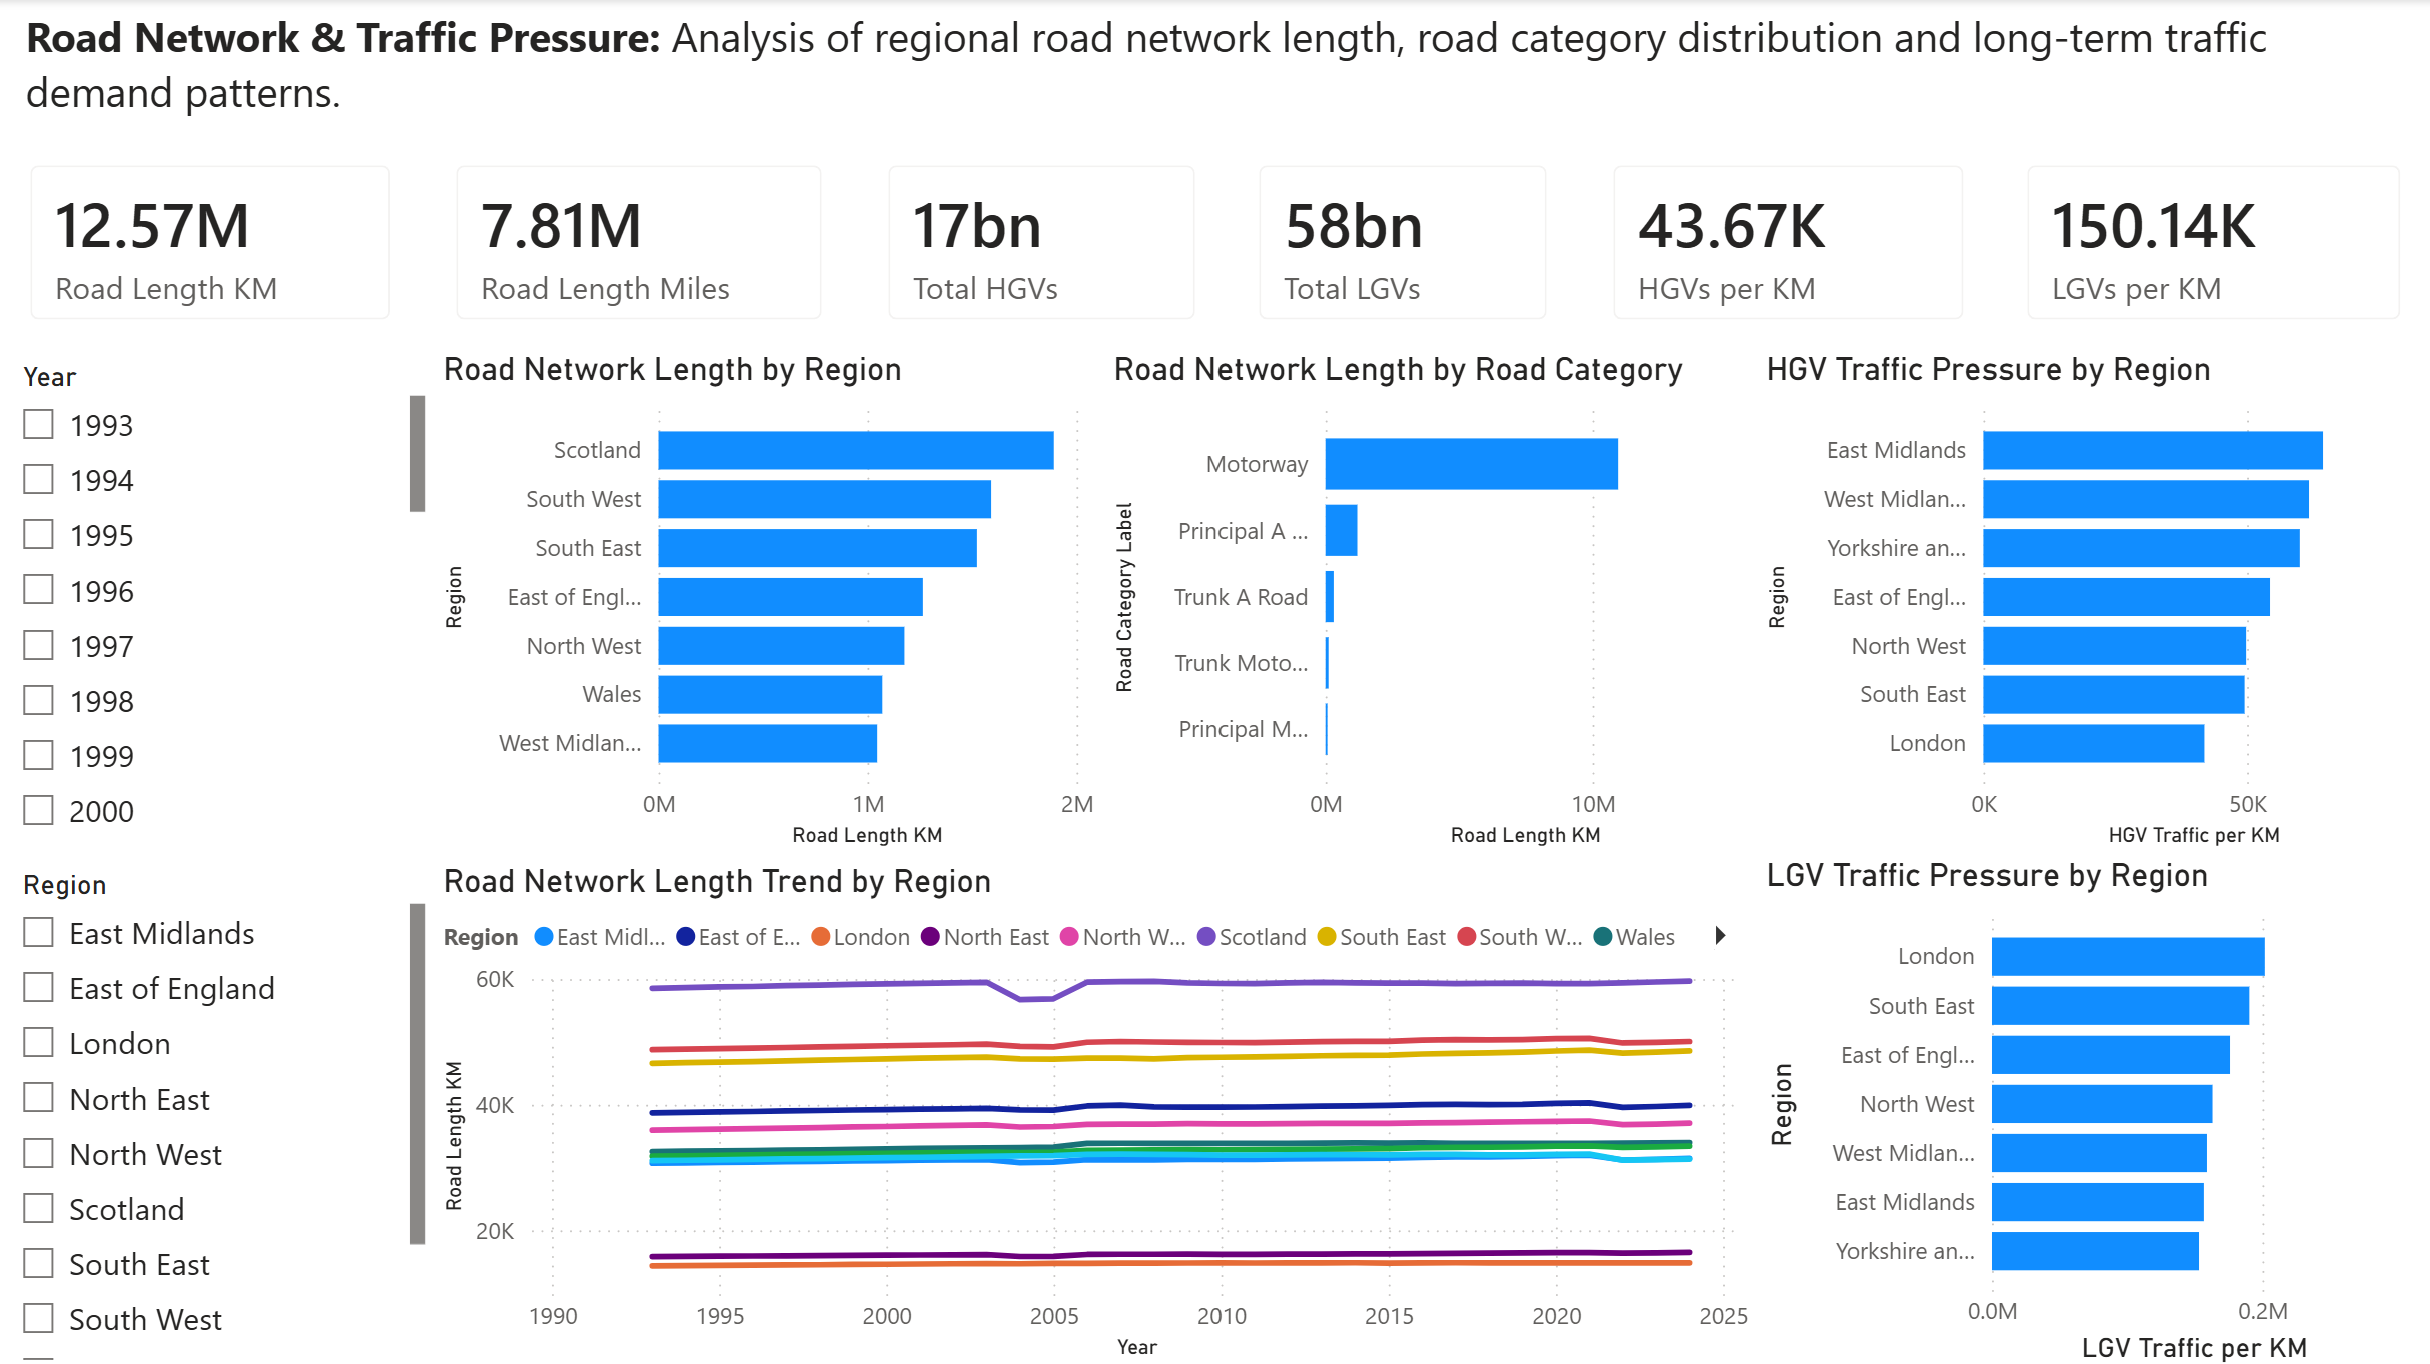

The page's visual inventory and layout, read from the dashboard file:
{"tool":"powerbi","page":{"name":"Road Network & Traffic Pressure","canvas":[1280,720],"ordinal":2},"visuals":[{"type":"textbox","box":[9.6,0,1270.4,70],"z":0},{"type":"cardVisual","fields":{"Data":["Sum(v_regional_road_network_summary.total_link_length_km)"]},"box":[0,70,223.9,115.4],"z":1},{"type":"cardVisual","fields":{"Data":["Sum(v_regional_road_network_summary.total_link_length_miles)"]},"box":[223.9,70,226.6,115.4],"z":2},{"type":"cardVisual","fields":{"Data":["Sum(v_logistics_pressure_proxy.total_hgv_traffic)"]},"box":[450.5,70,195,115.4],"z":3},{"type":"cardVisual","fields":{"Data":["Sum(v_logistics_pressure_proxy.total_lgvs)"]},"box":[645.5,70,185.4,115.4],"z":4},{"type":"cardVisual","fields":{"Data":["Avg(v_logistics_pressure_proxy.hgv_traffic_per_km)"]},"box":[830.9,70,218.4,115.4],"z":5},{"type":"cardVisual","fields":{"Data":["Avg(v_logistics_pressure_proxy.lgv_traffic_per_km)"]},"box":[1049.3,70,230.7,115.4],"z":6},{"type":"slicer","fields":{"Values":["v_logistics_pressure_proxy.year"]},"box":[0,185.4,229.4,266.4],"z":7},{"type":"slicer","fields":{"Values":["v_latest_logistics_pressure_proxy.region_name"]},"box":[0,451.8,229.4,267.8],"z":8},{"type":"barChart","title":"Road Network Length by Region","fields":{"Category":["v_regional_road_network_summary.region_name"],"Y":["Sum(v_regional_road_network_summary.total_link_length_km)"]},"box":[229.4,185.4,351.6,265.1],"z":9},{"type":"barChart","title":"Road Network Length by Road Category","fields":{"Category":["v_region_road_type_dashboard.Road Category Label"],"Y":["Sum(v_region_road_type_dashboard.link_length_km)"]},"box":[580.9,185.4,343.3,265.1],"z":10},{"type":"lineChart","title":"Road Network Length Trend by Region","fields":{"Category":["v_regional_road_network_summary.year"],"Series":["v_regional_road_network_summary.region_name"],"Y":["Sum(v_regional_road_network_summary.total_link_length_km)"]},"box":[229.4,454.6,694.9,265.1],"z":11},{"type":"barChart","title":"HGV Traffic Pressure by Region","fields":{"Category":["v_logistics_pressure_proxy.region_name"],"Y":["Avg(v_logistics_pressure_proxy.hgv_traffic_per_km)"]},"box":[924.3,185.4,355.7,265.1],"z":12},{"type":"barChart","title":"LGV Traffic Pressure by Region","fields":{"Category":["v_logistics_pressure_proxy.region_name"],"Y":["Avg(v_logistics_pressure_proxy.lgv_traffic_per_km)"]},"box":[924.3,450.5,355.7,270.6],"z":13}]}

Visuals, with their boxes in screenshot pixels (x1, y1, x2, y2), scaled from the page's 1280x720 canvas onto the 2430x1364 screenshot:
textbox: region(18, 0, 2429, 133)
cardVisual - Sum(v_regional_road_network_summary.total_link_length_km): region(0, 133, 425, 351)
cardVisual - Sum(v_regional_road_network_summary.total_link_length_miles): region(425, 133, 855, 351)
cardVisual - Sum(v_logistics_pressure_proxy.total_hgv_traffic): region(855, 133, 1225, 351)
cardVisual - Sum(v_logistics_pressure_proxy.total_lgvs): region(1225, 133, 1577, 351)
cardVisual - Avg(v_logistics_pressure_proxy.hgv_traffic_per_km): region(1577, 133, 1992, 351)
cardVisual - Avg(v_logistics_pressure_proxy.lgv_traffic_per_km): region(1992, 133, 2429, 351)
slicer - v_logistics_pressure_proxy.year: region(0, 351, 436, 856)
slicer - v_latest_logistics_pressure_proxy.region_name: region(0, 856, 436, 1363)
"Road Network Length by Region" barChart: region(436, 351, 1103, 853)
"Road Network Length by Road Category" barChart: region(1103, 351, 1755, 853)
"Road Network Length Trend by Region" lineChart: region(436, 861, 1755, 1363)
"HGV Traffic Pressure by Region" barChart: region(1755, 351, 2429, 853)
"LGV Traffic Pressure by Region" barChart: region(1755, 853, 2429, 1363)
